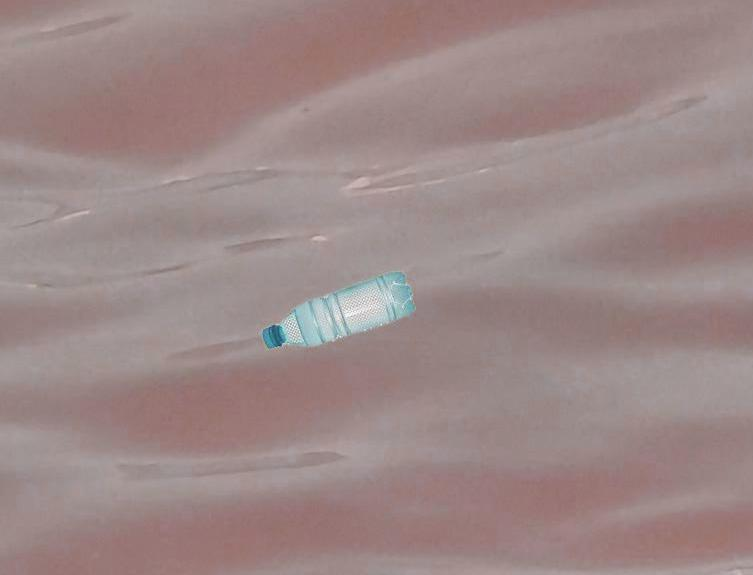Plastic: (262, 270, 419, 352)
